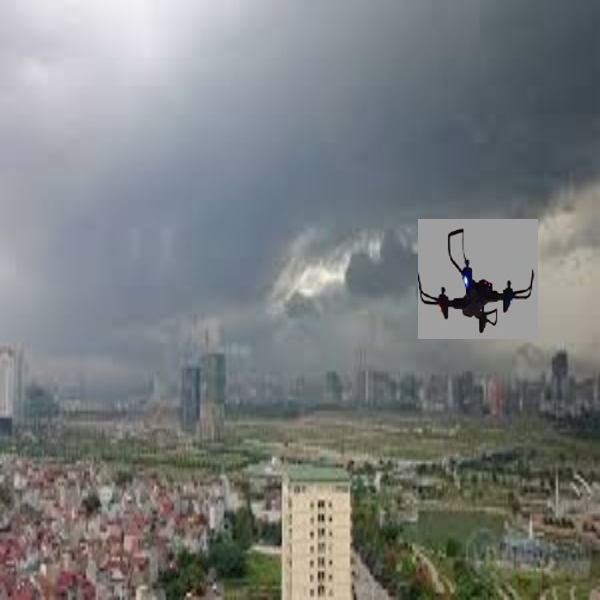drone: (416, 224, 537, 337)
